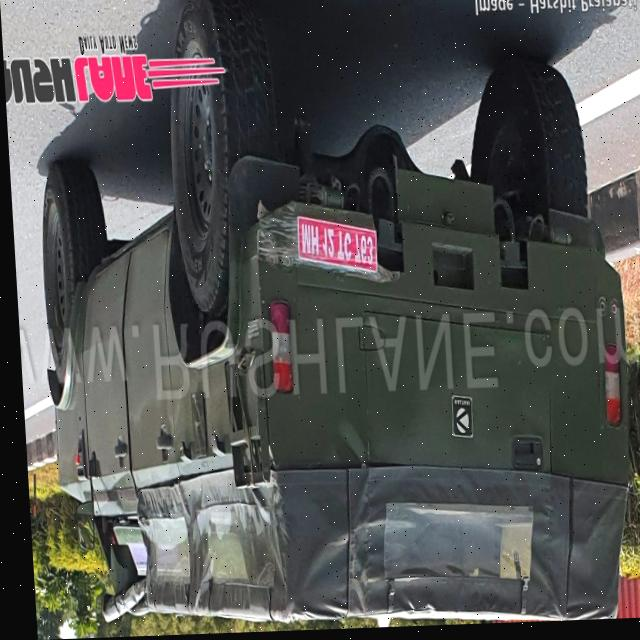plate: (291, 216, 381, 283)
